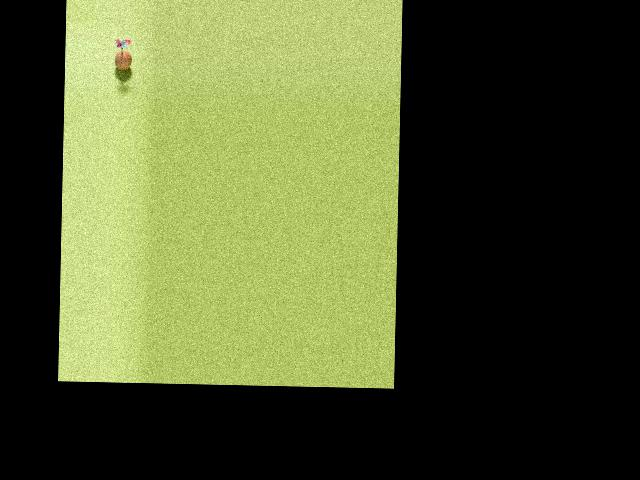egg: (114, 50, 131, 70)
